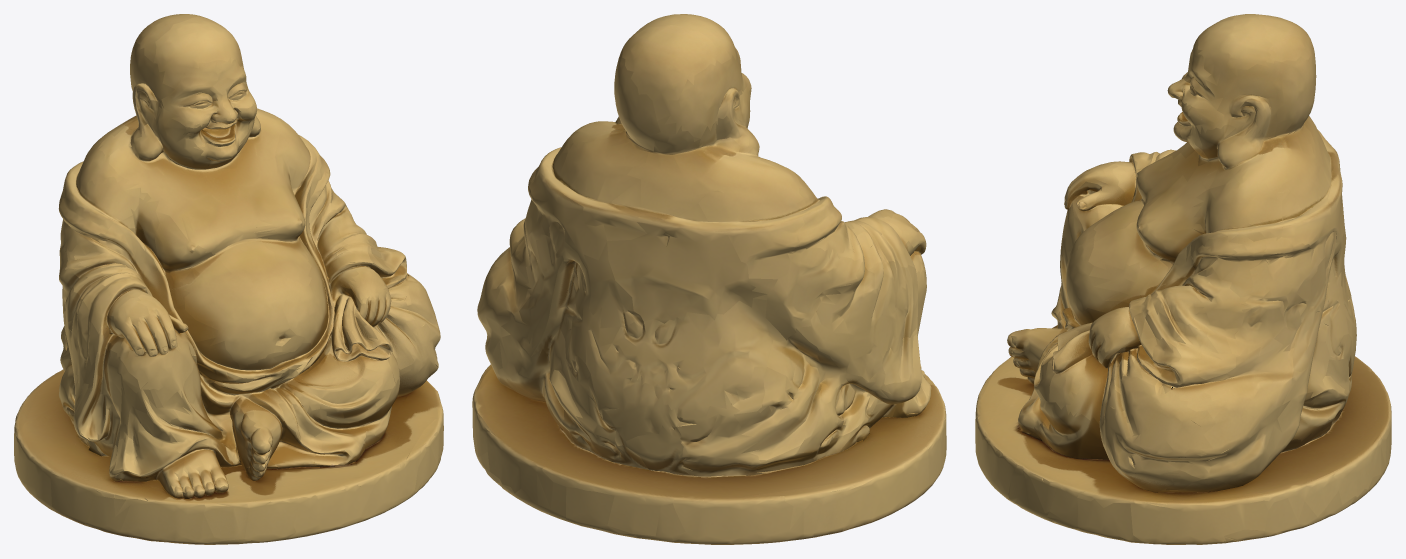
File: Meshy_AI_Cheerful_laughing_Bud_1116074724_texture.glb
3 views of the same model, side by side, from view 1: azimuth 30°, elevation 25°; view 2: azimuth 150°, elevation 25°; view 3: azimuth 270°, elevation 25° (orthographic). The views are drawn at different scales.
Visible parts, largest first — view 1: output_unwrapped; view 2: output_unwrapped; view 3: output_unwrapped.
Boxes of the visible parts, box(x1,y1,x2,y2) form: output_unwrapped: box(14, 14, 443, 544); output_unwrapped: box(472, 14, 946, 544); output_unwrapped: box(975, 14, 1391, 544).
Size of the model in its own units: 1.85 by 1.9 by 1.67.
Materials: 1 (1 with a texture image).
